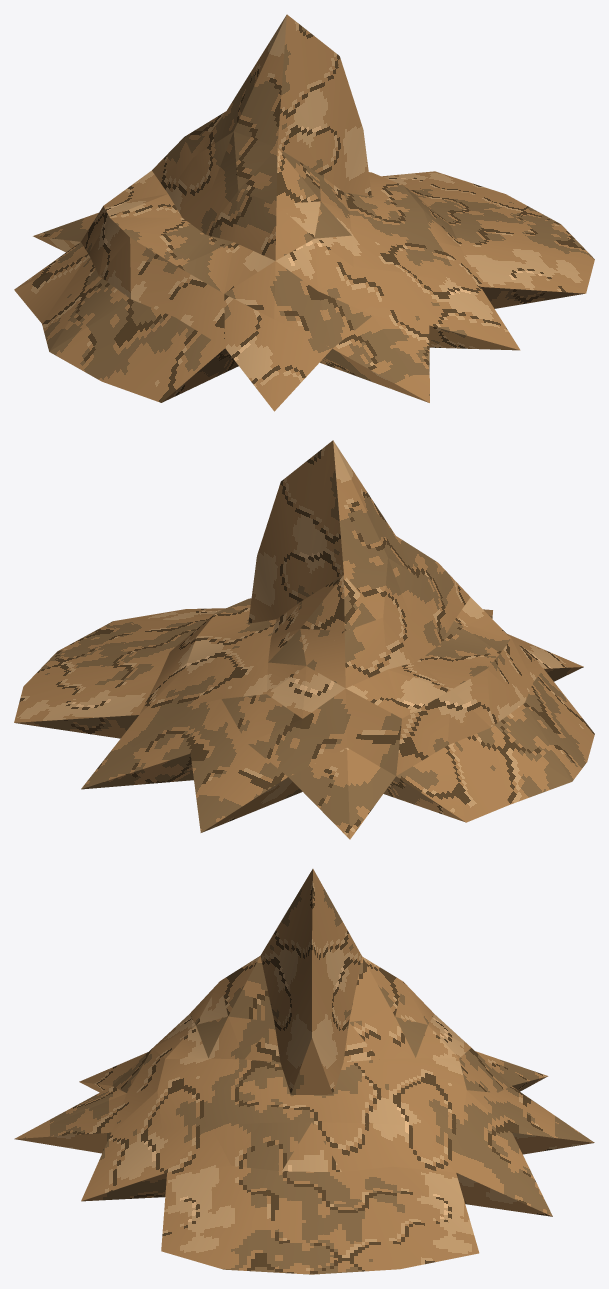
Rendered from stalagmite-300-13.glb.
3 views of the same model, one above another, from view 1: azimuth 30°, elevation 25°; view 2: azimuth 150°, elevation 25°; view 3: azimuth 270°, elevation 25° (orthographic).
Size of the model in its own units: 1.54 by 0.9153 by 1.53.
Materials: 1 (1 with a texture image).
